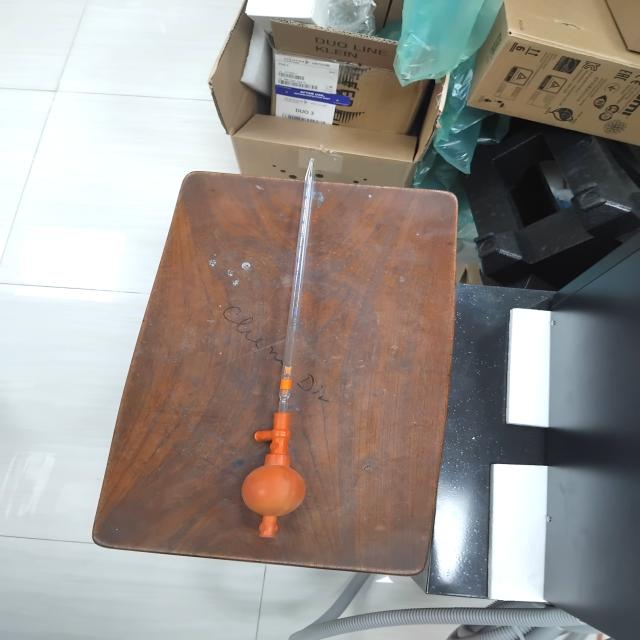Volumetric_Pipet: (224, 147, 358, 576)
